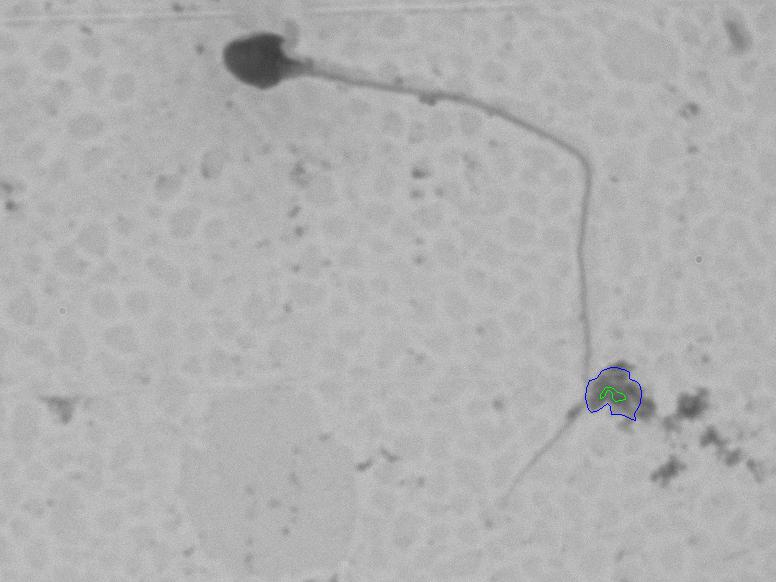Abnormal: (209, 14, 617, 522)
